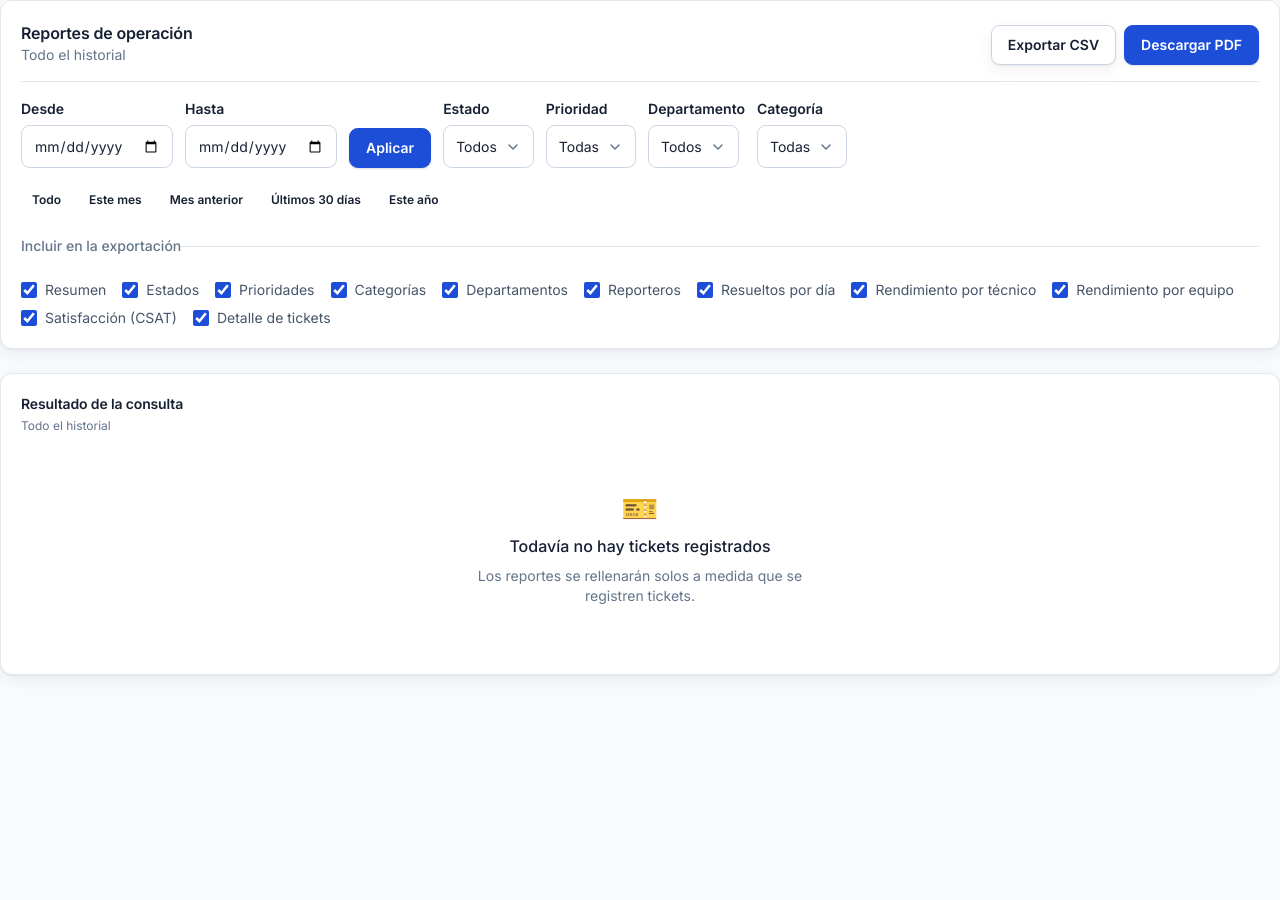
Scenario: Reports: la consulta no devuelve tickets › con filtros y período a la vez, el mensaje menciona las dos causas
Expected: the text "Todavía no hay tickets registrados" is shown, [509,534,771,558]
Click the button "Este mes": click(115, 200) [78,180,153,220]
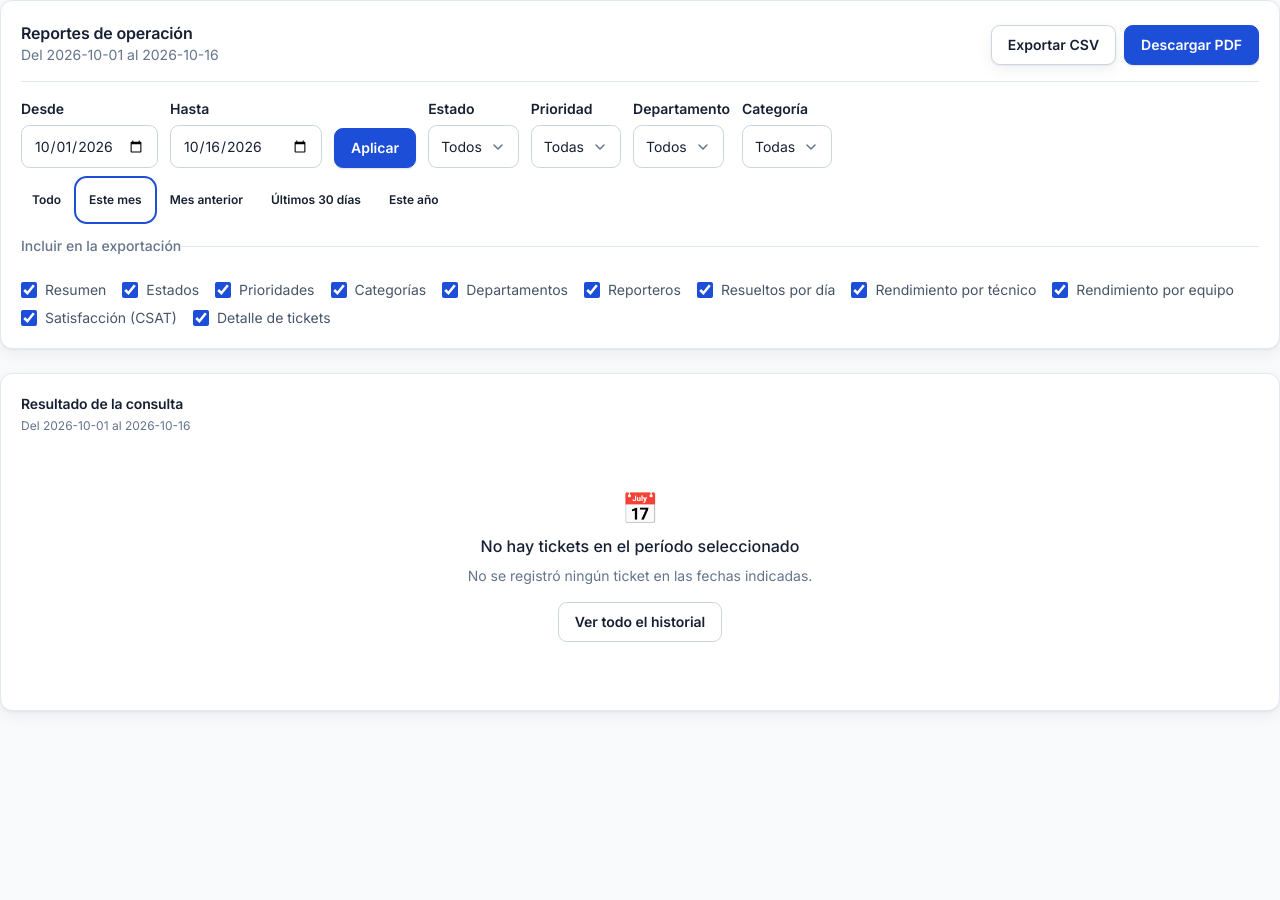
Click the dropdown named "Departamento": click(678, 146) [633,125,724,168]
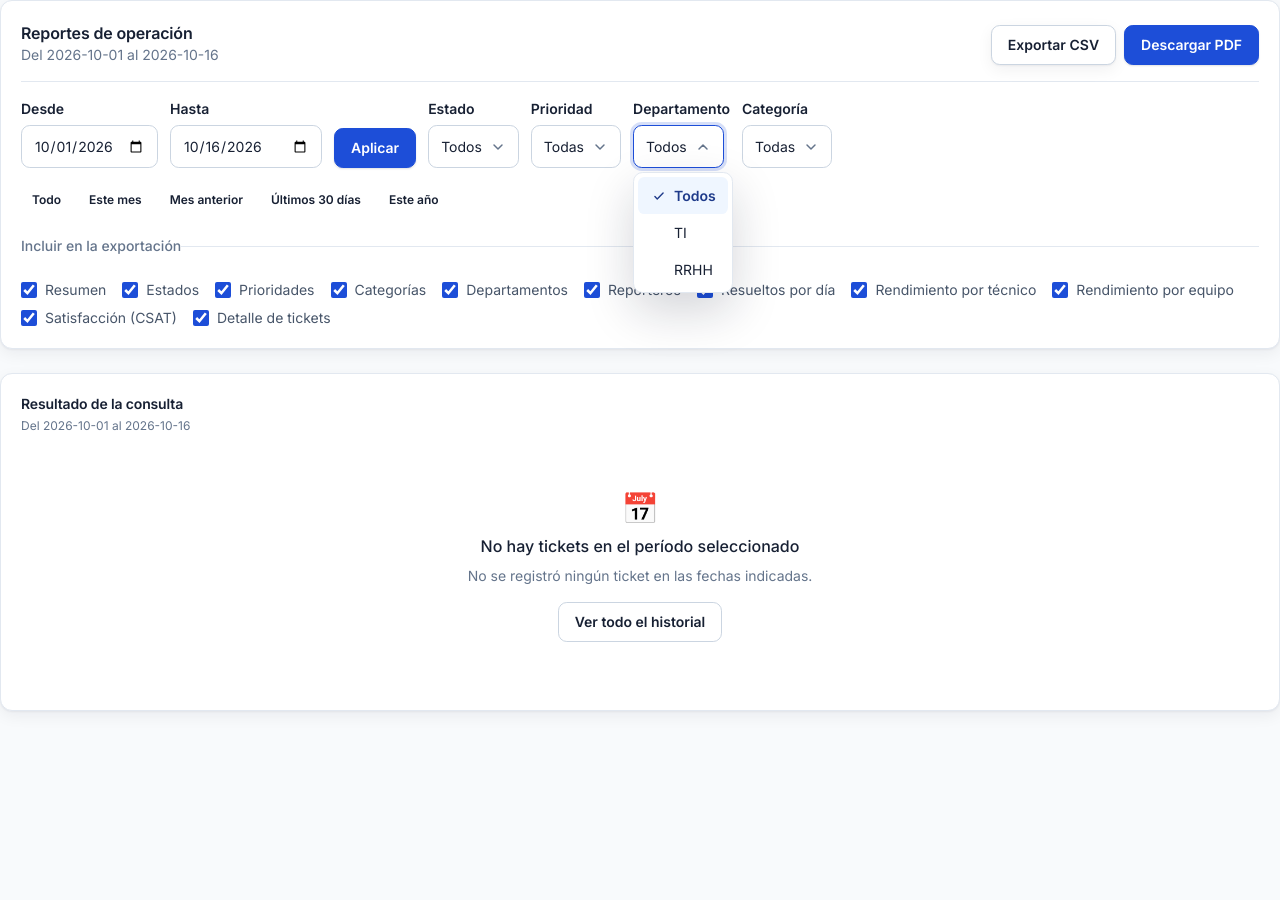
Click the option "RRHH": click(693, 270) [674,261,713,278]
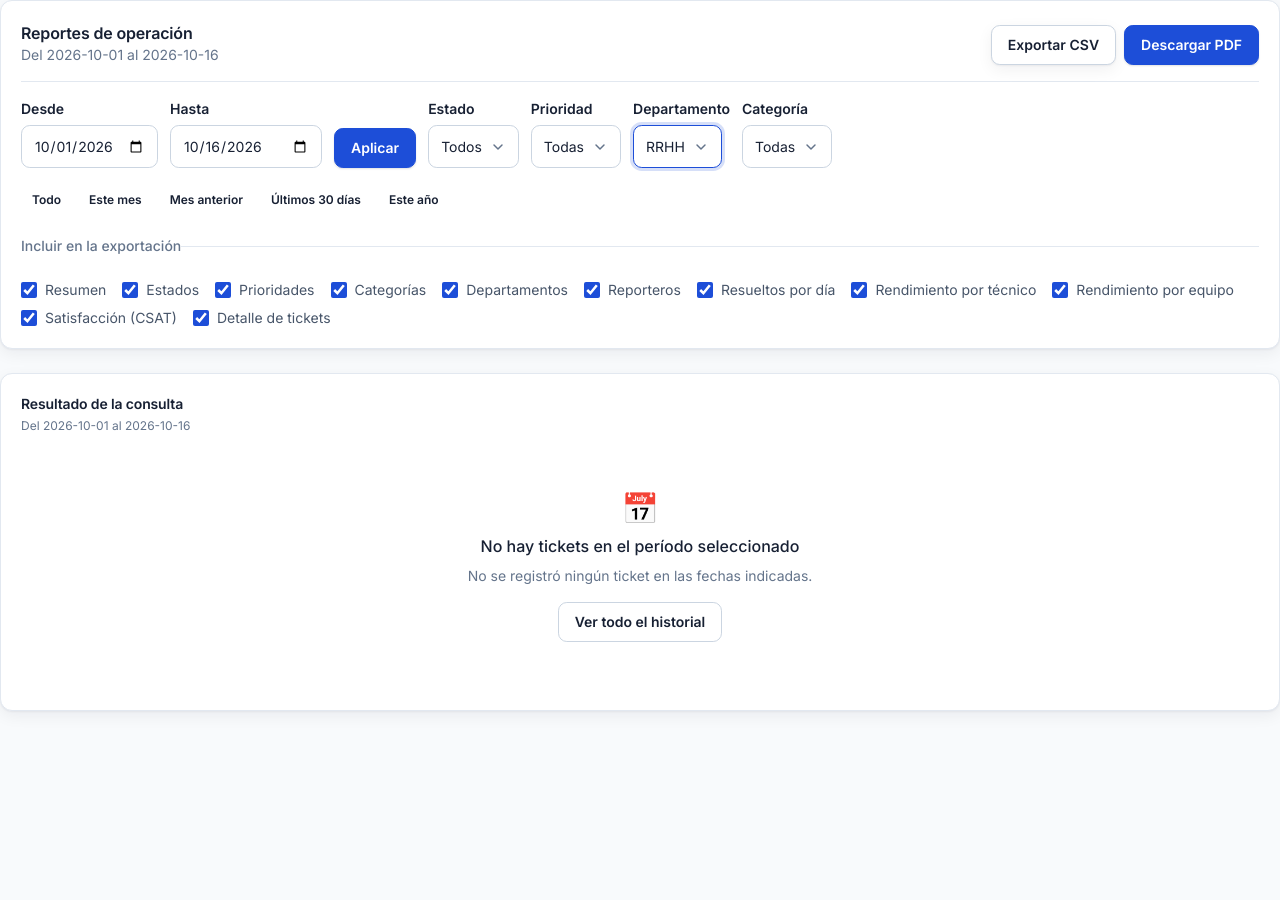
Click the button "Aplicar": click(375, 148) [334,128,416,168]
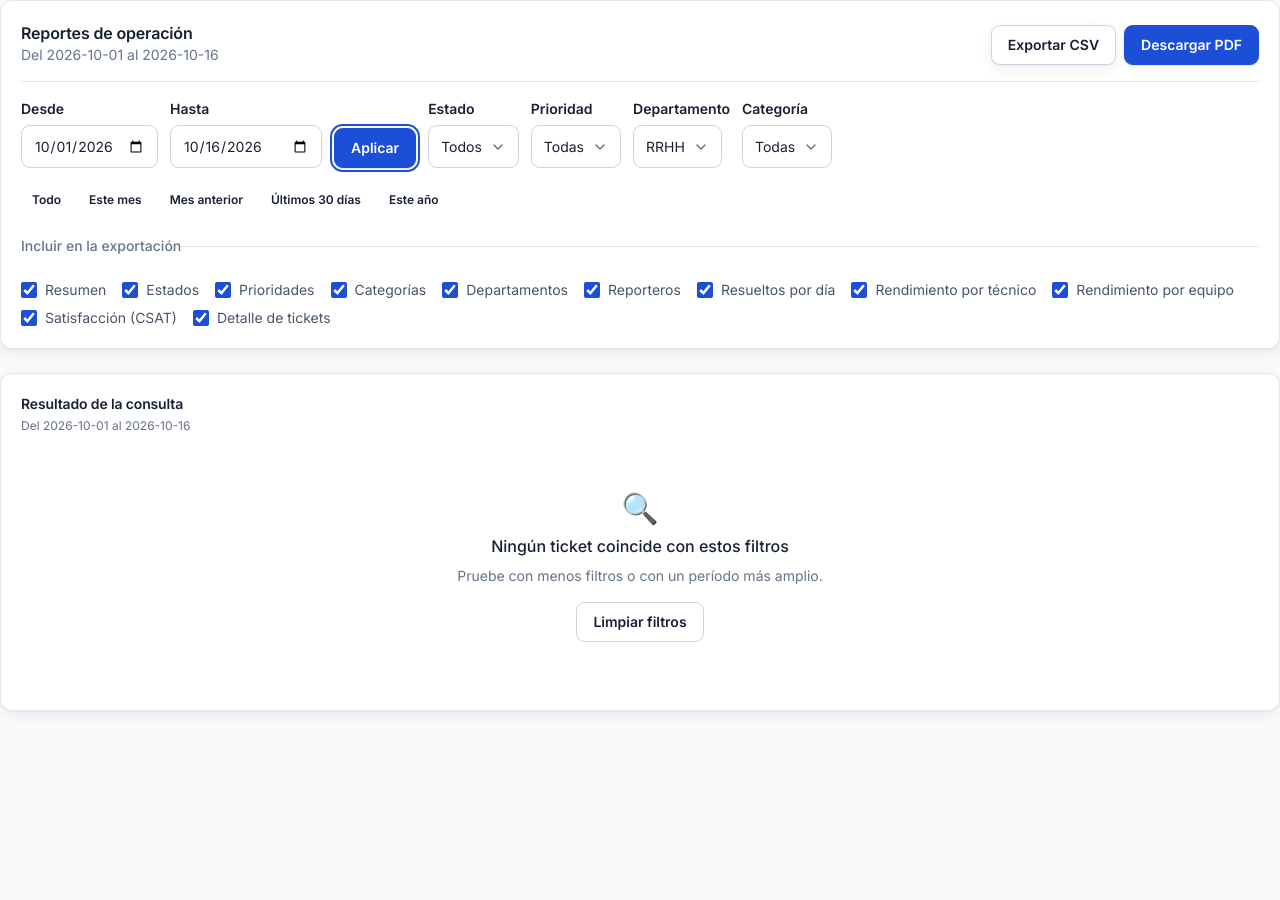
Now the text "Ningún ticket coincide con estos filtros" is shown, box [491,534,789,558]
Now the text "Pruebe con menos filtros o con un período más amplio." is shown, box [457,566,823,586]
